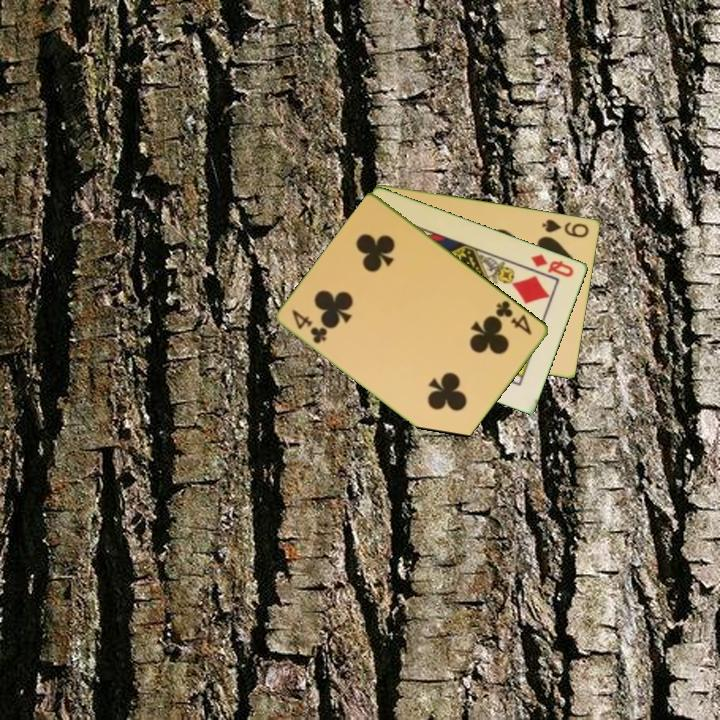4c: (492, 297, 535, 338), (288, 306, 331, 347)
9s: (539, 215, 592, 240)
Qd: (528, 250, 577, 280)
